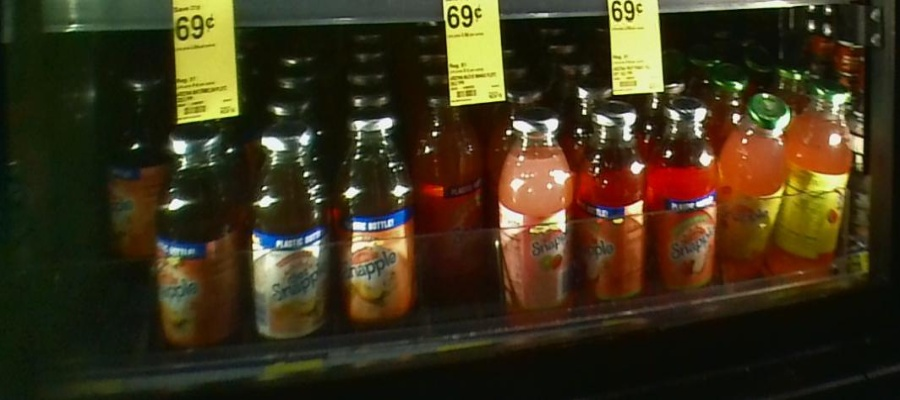bottle: (241, 113, 333, 342), (155, 114, 240, 350), (335, 107, 414, 337), (494, 104, 576, 314), (579, 97, 649, 304), (651, 96, 718, 309), (722, 94, 790, 294), (416, 85, 484, 283), (794, 74, 848, 292), (104, 63, 154, 257)
